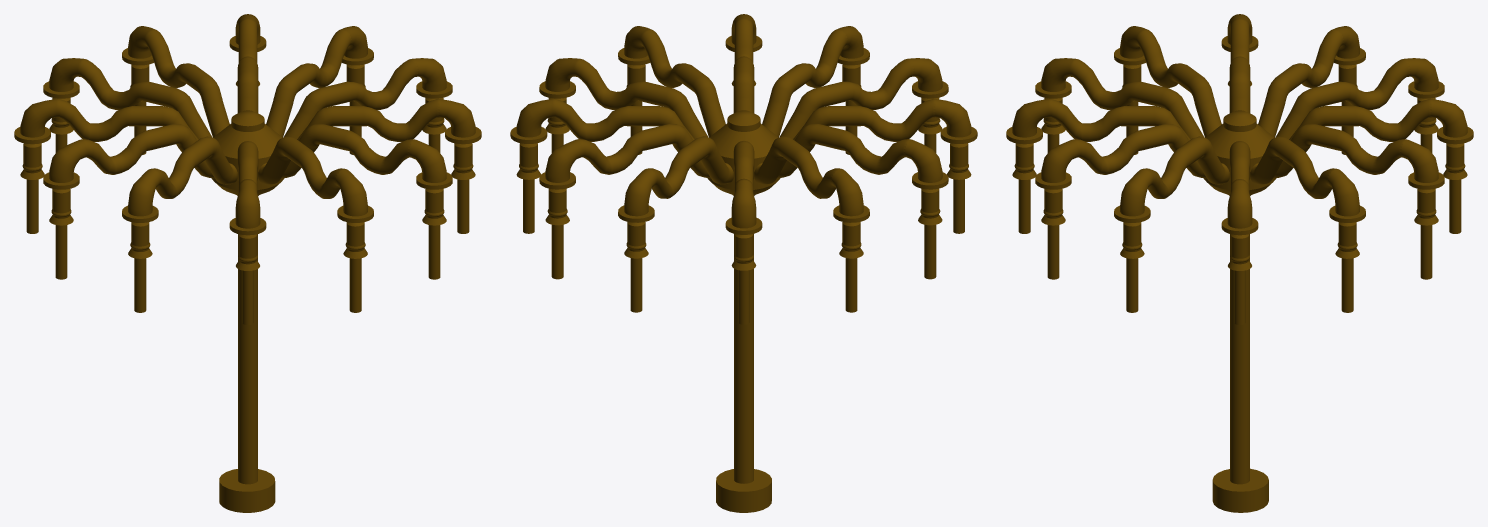
Rendered from Lair_ChandelierUpisideDown.fbx.
3 renders of one model, left to right at view 1: azimuth 30°, elevation 25°; view 2: azimuth 150°, elevation 25°; view 3: azimuth 270°, elevation 25°, orthographic.
Visible parts, largest first — view 1: ChandelierBrass1; view 2: ChandelierBrass1; view 3: ChandelierBrass1.
Boxes of the visible parts, x1,y1,x2,y2 form: ChandelierBrass1: (14, 14, 481, 512); ChandelierBrass1: (510, 14, 977, 512); ChandelierBrass1: (1006, 14, 1473, 512).
Bounding box in the file's own units: 520 × 493 × 520.
